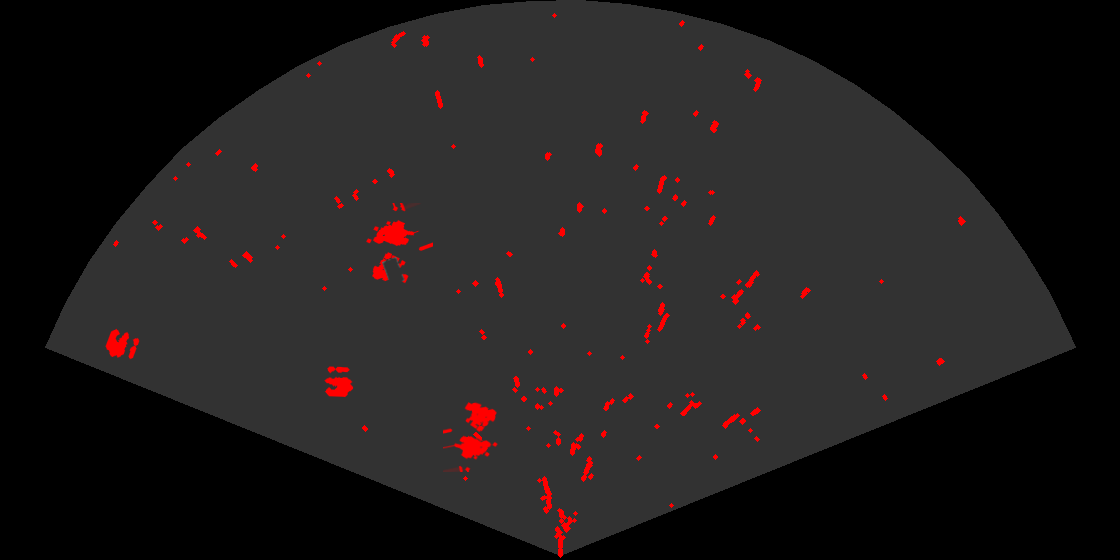ball: (104, 327, 141, 361), (323, 365, 355, 399)
cage: (365, 203, 433, 285), (443, 401, 500, 472)
